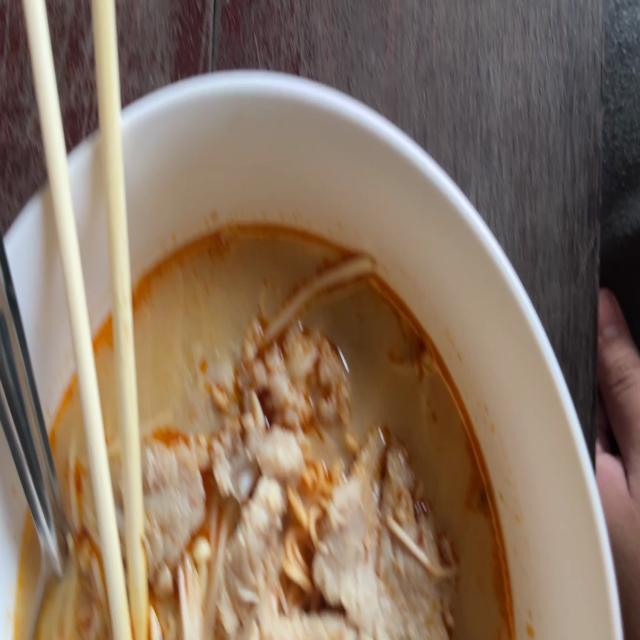noodle: (2, 212, 545, 640)
